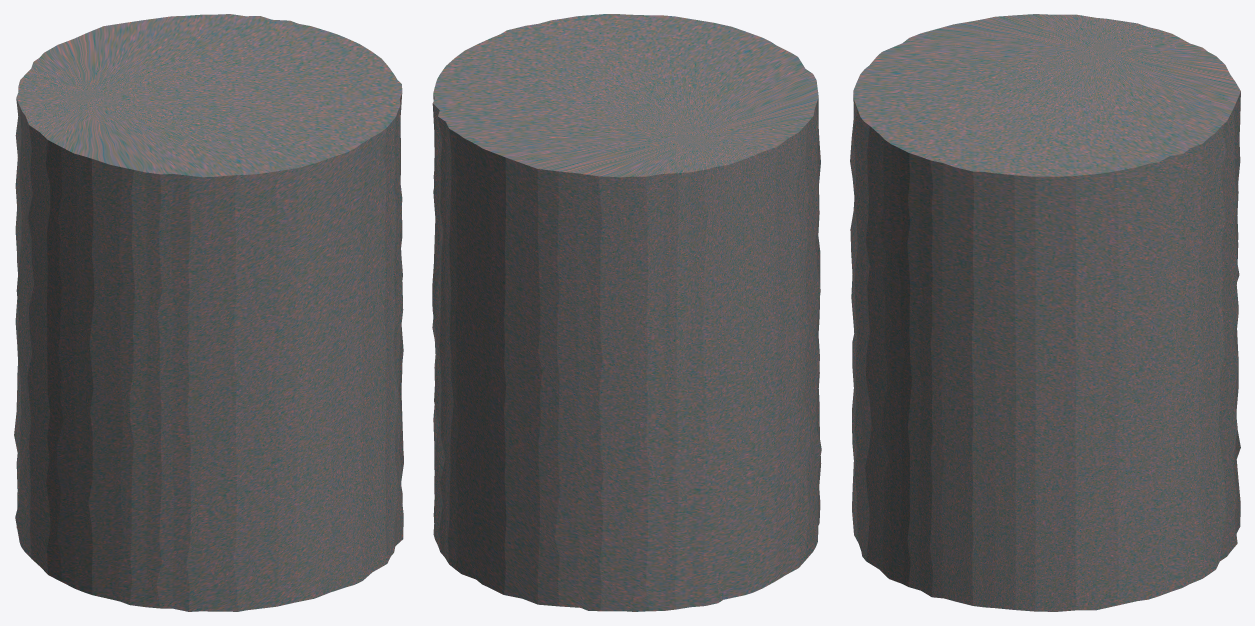
The model's file is barrel_26.dae.
3 renders of one model, left to right at view 1: azimuth 30°, elevation 25°; view 2: azimuth 150°, elevation 25°; view 3: azimuth 270°, elevation 25°, orthographic.
Visible parts, largest first — view 1: Cylinder; view 2: Cylinder; view 3: Cylinder.
Part boxes in pixels (bbox=[...]): Cylinder: bbox=[14, 14, 403, 611]; Cylinder: bbox=[432, 14, 821, 611]; Cylinder: bbox=[850, 14, 1240, 611].
Size of the model in its own units: 0.8164 by 0.8142 by 1.
Materials: 1 (1 with a texture image).
